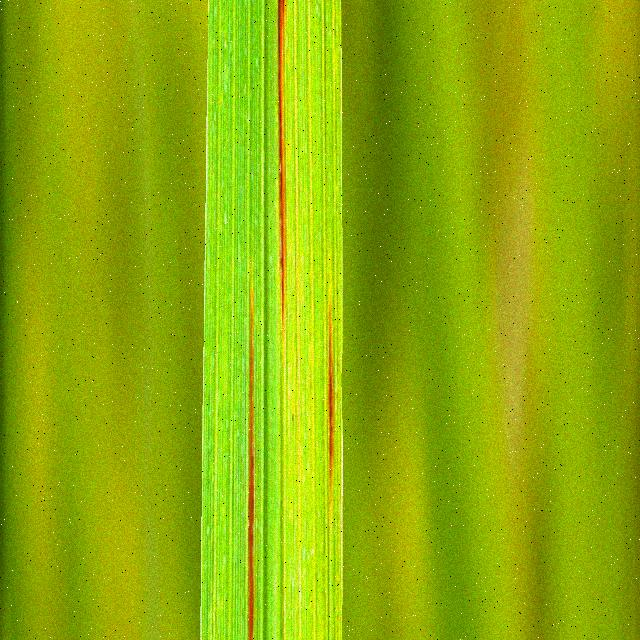NBS: (278, 0, 286, 331), (247, 286, 254, 640), (328, 293, 336, 512)
